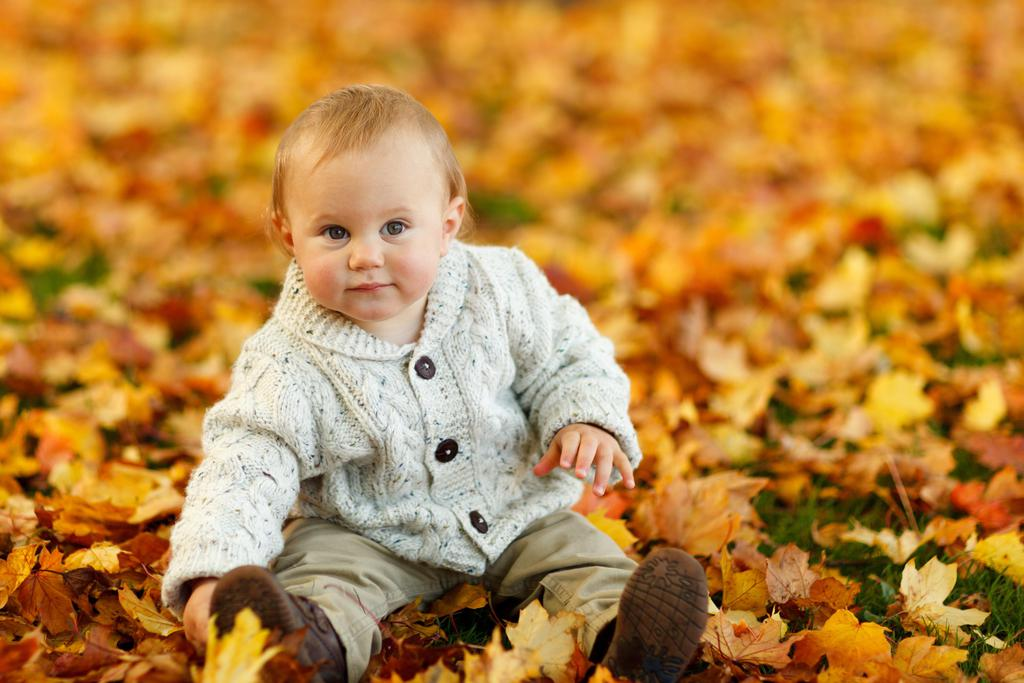child: (149, 72, 729, 678)
